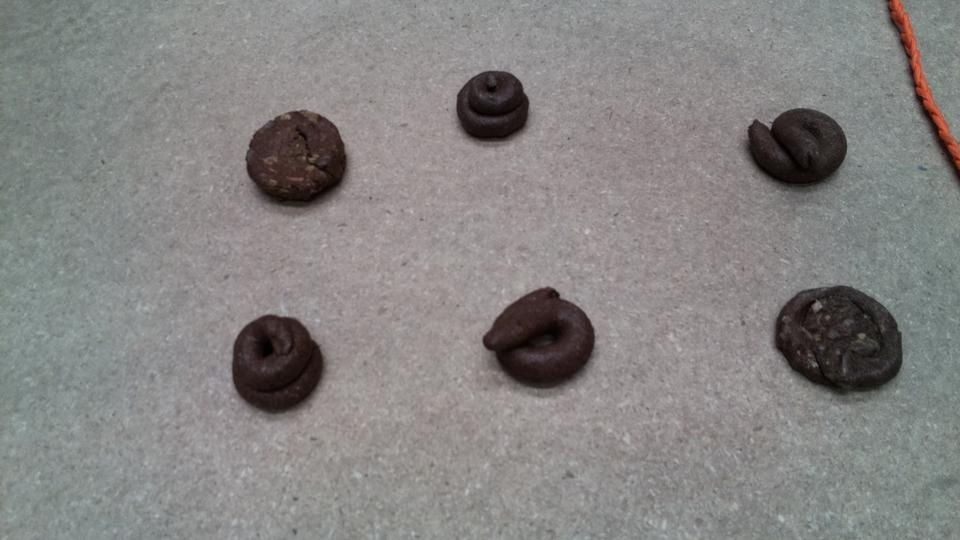poop: (769, 282, 907, 397), (480, 281, 599, 392), (887, 1, 960, 177), (223, 309, 329, 418), (241, 108, 353, 207), (745, 106, 850, 188), (453, 68, 532, 143)
